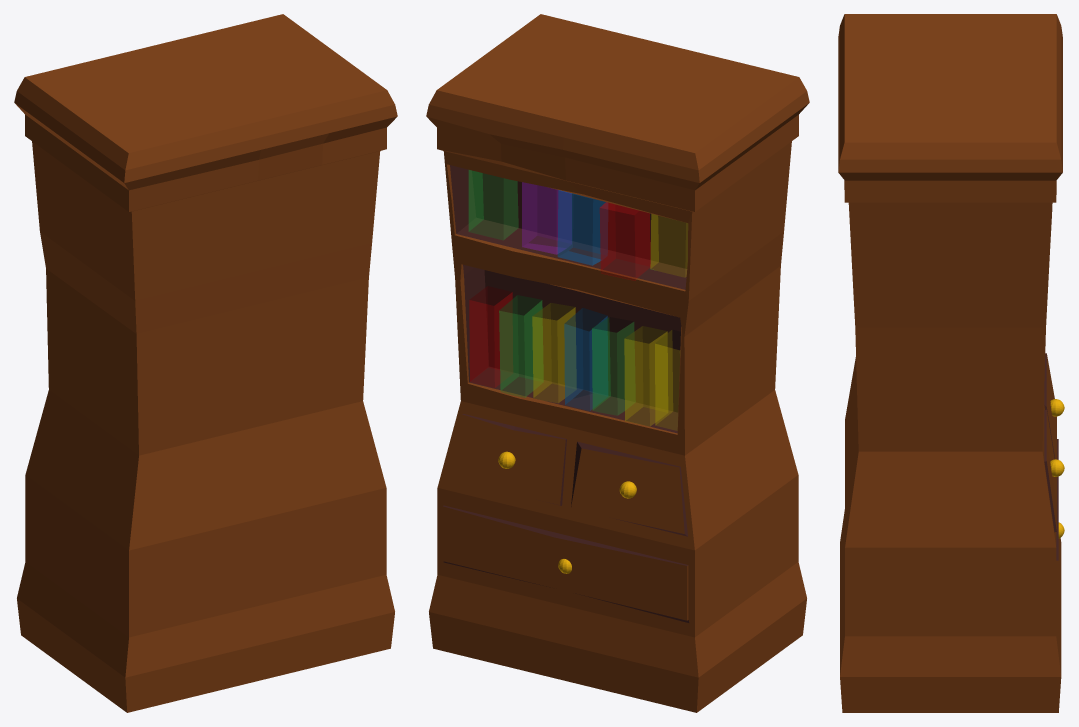
Rendered from Estante.fbx.
The picture shows the model from 3 angles, left to right: view 1: azimuth 30°, elevation 25°; view 2: azimuth 150°, elevation 25°; view 3: azimuth 270°, elevation 25°; orthographic projection.
Visible parts, largest first — view 1: Cube.003; view 2: Cube.003, Cube.005, Cube.006; view 3: Cube.003.
Boxes of the visible parts, bbox=[...] form: Cube.003: bbox=[14, 14, 397, 712]; Cube.003: bbox=[426, 14, 809, 712]; Cube.005: bbox=[469, 286, 680, 430]; Cube.006: bbox=[468, 170, 687, 280]; Cube.003: bbox=[838, 14, 1062, 712].
Size of the model in its own units: 340 by 663 by 239.
